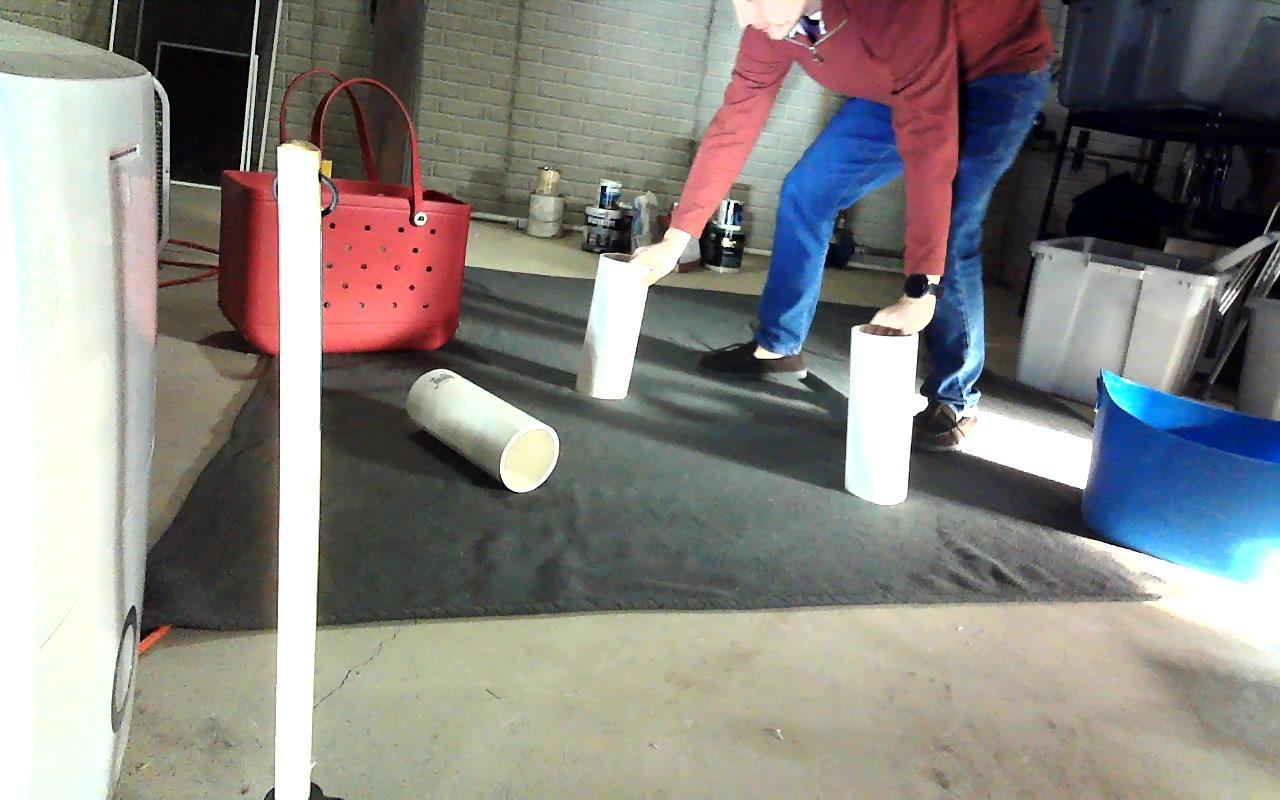coral: (406, 370, 558, 492), (844, 325, 917, 505), (586, 255, 649, 400)
